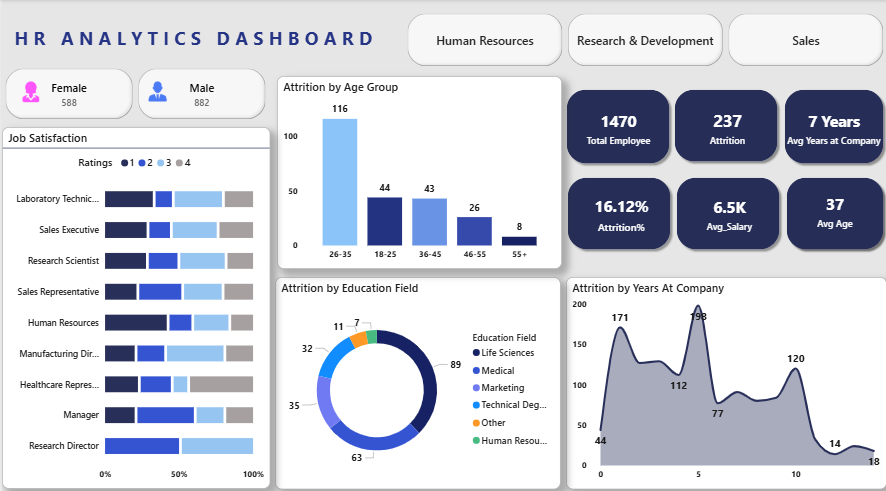

Layout of this report page (visuals, bound fields, positions):
{"tool":"powerbi","page":{"name":"Page 1","canvas":[1280,720],"ordinal":0},"visuals":[{"type":"shape","box":[1124.3,124.3,156.1,120],"z":0},{"type":"advancedSlicerVisual","fields":{"Values":["HR_Analytics.Gender"]},"box":[0,95.4,387.5,83.9],"z":1000},{"type":"shape","box":[966,124.3,161.9,117.1],"z":2000},{"type":"card","fields":{"Values":["HR_Analytics.Employee_Attrition"]},"box":[966.7,135.9,163.4,99.8],"z":3000,"group":"g1"},{"type":"shape","box":[809.6,124.3,161.9,120],"z":3000},{"type":"shape","box":[811.3,251.6,161.9,117.1],"z":4000},{"type":"shape","box":[1127.2,251.6,153.3,117.1],"z":5000},{"type":"card","fields":{"Values":["HR_Analytics.Employee_Count"]},"box":[817,137.3,148.9,96.9],"z":6000},{"type":"shape","box":[968.1,251.6,161.9,117.1],"z":7000},{"type":"card","fields":{"Values":["HR_Analytics.Years_with_text"]},"box":[1128.6,130.1,147.5,111.3],"z":8000},{"type":"card","fields":{"Values":["HR_Analytics.Attrition%"]},"box":[821.4,266,148.9,88.2],"z":9000},{"type":"card","fields":{"Values":["HR_Analytics.Avg_Salary"]},"box":[978.3,258.8,146,102.7],"z":10000},{"type":"card","fields":{"Values":["HR_Analytics.Avg_Age"]},"box":[1127.2,253,153.3,107],"z":11000},{"type":"areaChart","title":"Attrition by Years At Company","fields":{"Category":["HR_Analytics.YearsAtCompany"],"Y":["CountNonNull(HR_Analytics.Attrition)"]},"box":[815.4,401.9,464.1,306.5],"z":12000},{"type":"donutChart","title":"Attrition by Education Field","fields":{"Y":["HR_Analytics.Employee_Attrition"],"Category":["HR_Analytics.EducationField"]},"box":[394.7,401.9,413.5,306.5],"z":13000},{"type":"clusteredColumnChart","title":"Attrition by Age Group","fields":{"Category":["HR_Analytics.AgeGroup"],"Y":["HR_Analytics.Employee_Attrition"]},"box":[397.6,111.3,412,279],"z":14000},{"type":"hundredPercentStackedBarChart","title":"Job Satisfaction","fields":{"Y":["HR_Analytics.Employee_Attrition"],"Series":["HR_Analytics.JobSatisfaction"],"Category":["HR_Analytics.JobRole"]},"box":[0,185.1,388,523.4],"z":15000},{"type":"group","id":"g1","title":"Group 2","box":[966.7,135.9,163.4,99.8],"z":16000},{"type":"image","box":[199.5,114.2,50.6,39],"z":17000},{"type":"image","box":[18.8,114.2,46.3,40.5],"z":18000},{"type":"advancedSlicerVisual","fields":{"Values":["HR_Analytics.Department"]},"box":[581.2,15.9,698.3,86.7],"z":19000},{"type":"textbox","box":[0,31.8,553.7,54.9],"z":20000}]}

Visuals, with their boxes in screenshot pixels (x1, y1, x2, y2), scaled from the page's 1280x720 canvas onto the 886x491 screenshot:
shape: (778,85,885,167)
advancedSlicerVisual - HR_Analytics.Gender: (0,65,268,122)
shape: (669,85,781,165)
card - HR_Analytics.Employee_Attrition: (669,93,782,161)
shape: (560,85,672,167)
shape: (562,172,674,251)
shape: (780,172,885,251)
card - HR_Analytics.Employee_Count: (566,94,669,160)
shape: (670,172,782,251)
card - HR_Analytics.Years_with_text: (781,89,883,165)
card - HR_Analytics.Attrition%: (569,181,672,242)
card - HR_Analytics.Avg_Salary: (677,176,778,247)
card - HR_Analytics.Avg_Age: (780,173,885,246)
"Attrition by Years At Company" areaChart: (564,274,885,483)
"Attrition by Education Field" donutChart: (273,274,559,483)
"Attrition by Age Group" clusteredColumnChart: (275,76,560,266)
"Job Satisfaction" hundredPercentStackedBarChart: (0,126,269,483)
"Group 2" group: (669,93,782,161)
image: (138,78,173,104)
image: (13,78,45,105)
advancedSlicerVisual - HR_Analytics.Department: (402,11,885,70)
textbox: (0,22,383,59)
